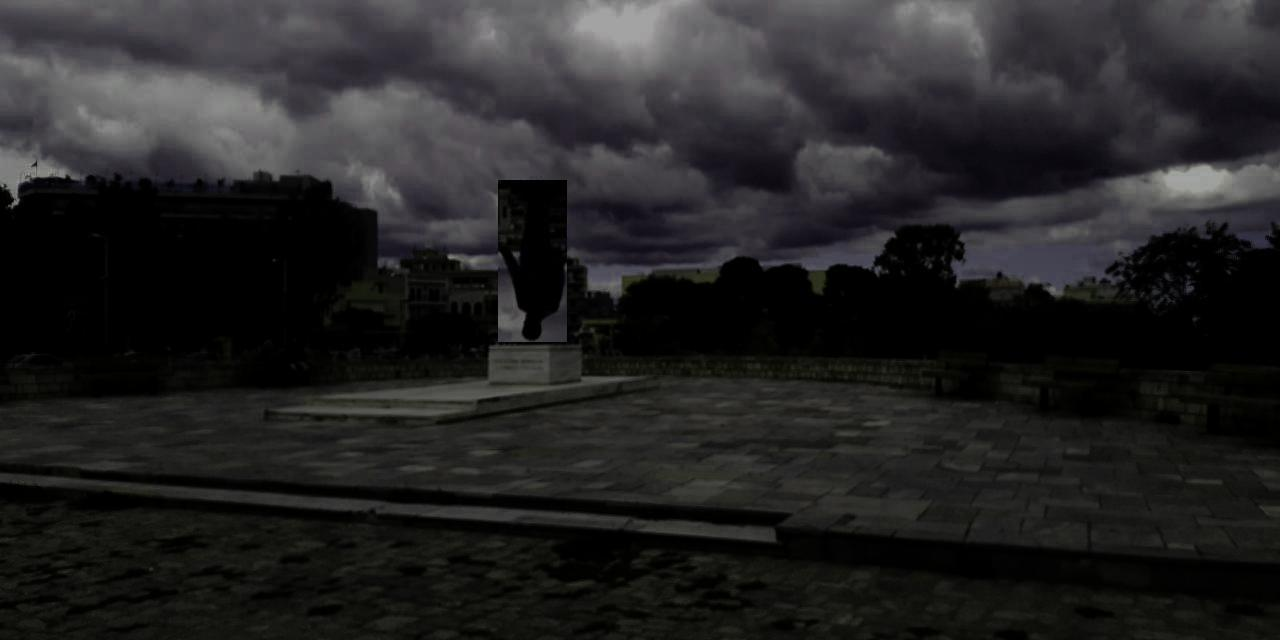Venizelos: (499, 181, 568, 343)
